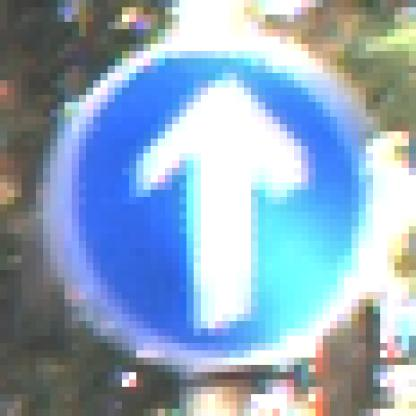AheadOnly: (37, 38, 381, 373)
